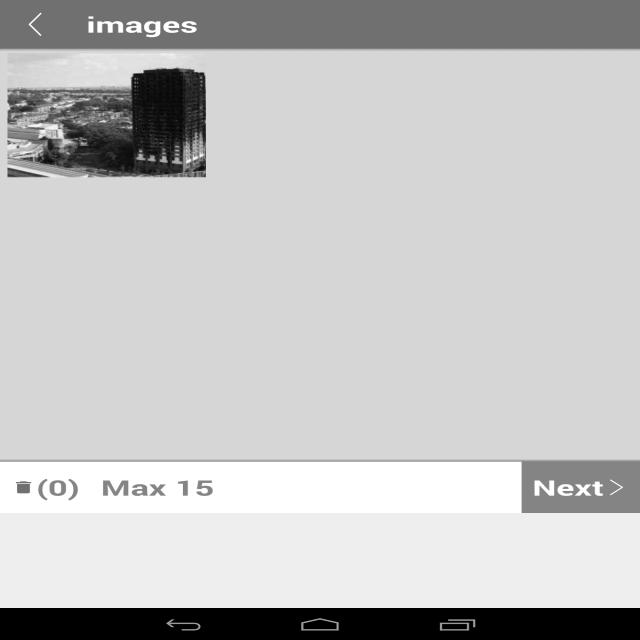ImageButton: (273, 368, 366, 426), (488, 368, 581, 426), (59, 368, 151, 426), (57, 501, 150, 558), (273, 501, 366, 558), (489, 501, 582, 558)
ImageView: (0, 42, 640, 342), (7, 54, 206, 178), (0, 0, 70, 48), (589, 5, 631, 38)
TextView: (70, 0, 214, 49), (90, 462, 225, 513), (521, 461, 640, 513), (0, 462, 90, 513), (265, 564, 374, 582), (268, 432, 371, 449), (487, 5, 538, 38), (436, 5, 486, 38), (538, 5, 588, 38), (67, 564, 141, 582), (514, 564, 558, 582), (85, 432, 124, 449), (516, 432, 554, 449)
